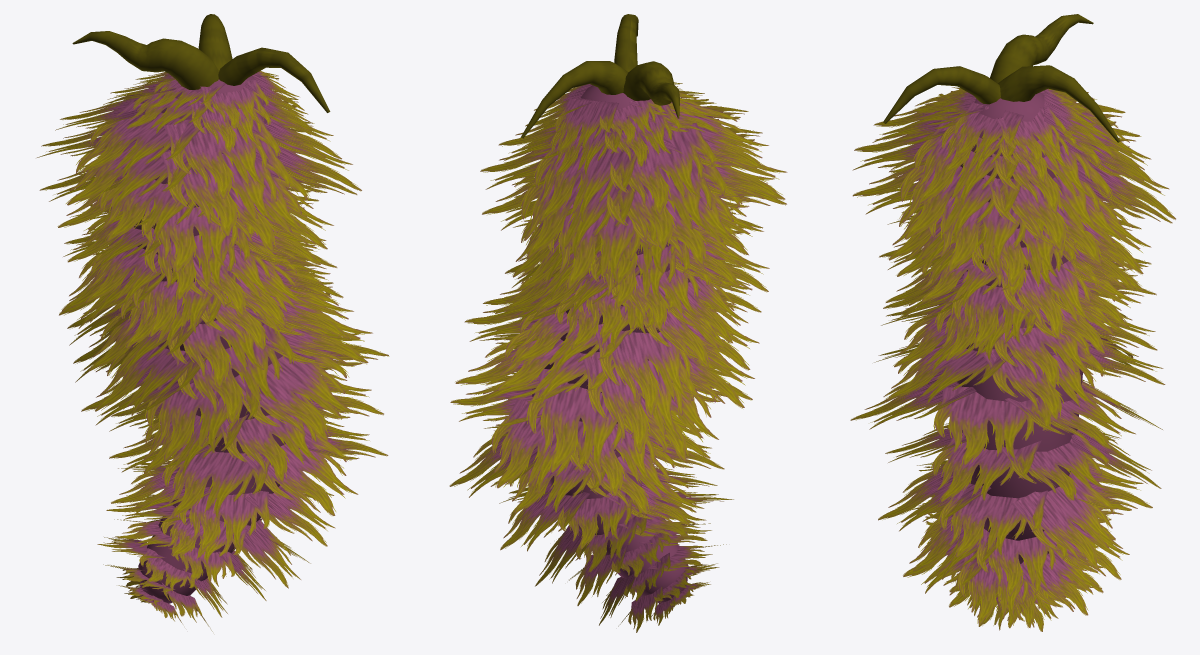
The model's file is Rübe_small.fbx.
3 renders of one model, left to right at view 1: azimuth 30°, elevation 25°; view 2: azimuth 150°, elevation 25°; view 3: azimuth 270°, elevation 25°, orthographic. The views are drawn at different scales.
Parts seen in each view (by area): view 1: staengel, Plane.075, Plane.039, Plane.045, Plane.087, Plane.070, Plane.076, body, Plane.046, Plane.086, Plane.081, Plane.040 (+53 smaller); view 2: staengel, Plane.073, Plane.061, Plane.067, Plane.047, Plane.043, Plane.037, Plane.041, Plane.079, body, Plane.031, Plane.066 (+55 smaller); view 3: staengel, body, Plane.074, Plane.085, Plane.038, Plane.036, Plane.084, Plane.068, Plane.013, Plane.032, Plane.080, Plane.062 (+49 smaller).
Boxes of the visible parts, <box> form: staengel: <box>72,14,330,112</box>; Plane.075: <box>235,350,357,441</box>; Plane.039: <box>161,140,292,236</box>; Plane.045: <box>163,113,281,199</box>; Plane.087: <box>162,440,270,518</box>; Plane.070: <box>173,324,295,423</box>; Plane.076: <box>145,374,260,460</box>; body: <box>134,76,294,603</box>; Plane.046: <box>81,101,204,177</box>; Plane.086: <box>243,423,358,515</box>; Plane.081: <box>220,393,327,481</box>; Plane.040: <box>66,140,191,211</box>; staengel: <box>521,14,679,138</box>; Plane.073: <box>526,369,641,472</box>; Plane.061: <box>595,323,702,415</box>; Plane.067: <box>581,352,695,453</box>; Plane.047: <box>609,123,716,214</box>; Plane.043: <box>533,139,636,221</box>; Plane.037: <box>519,164,635,258</box>; Plane.041: <box>605,155,728,250</box>; Plane.079: <box>490,398,585,493</box>; body: <box>532,85,690,602</box>; Plane.031: <box>548,204,656,289</box>; Plane.066: <box>496,327,615,404</box>; staengel: <box>883,14,1120,142</box>; body: <box>957,92,1082,563</box>; Plane.074: <box>933,387,1050,464</box>; Plane.085: <box>1011,472,1122,570</box>; Plane.038: <box>898,149,1020,243</box>; Plane.036: <box>983,156,1112,250</box>; Plane.084: <box>938,484,1047,557</box>; Plane.068: <box>981,341,1106,419</box>; Plane.013: <box>1000,259,1099,338</box>; Plane.032: <box>928,196,1043,272</box>; Plane.080: <box>931,432,1041,501</box>; Plane.062: <box>994,315,1099,388</box>.
Size of the model in its own units: 20.54 by 34.69 by 18.8.
